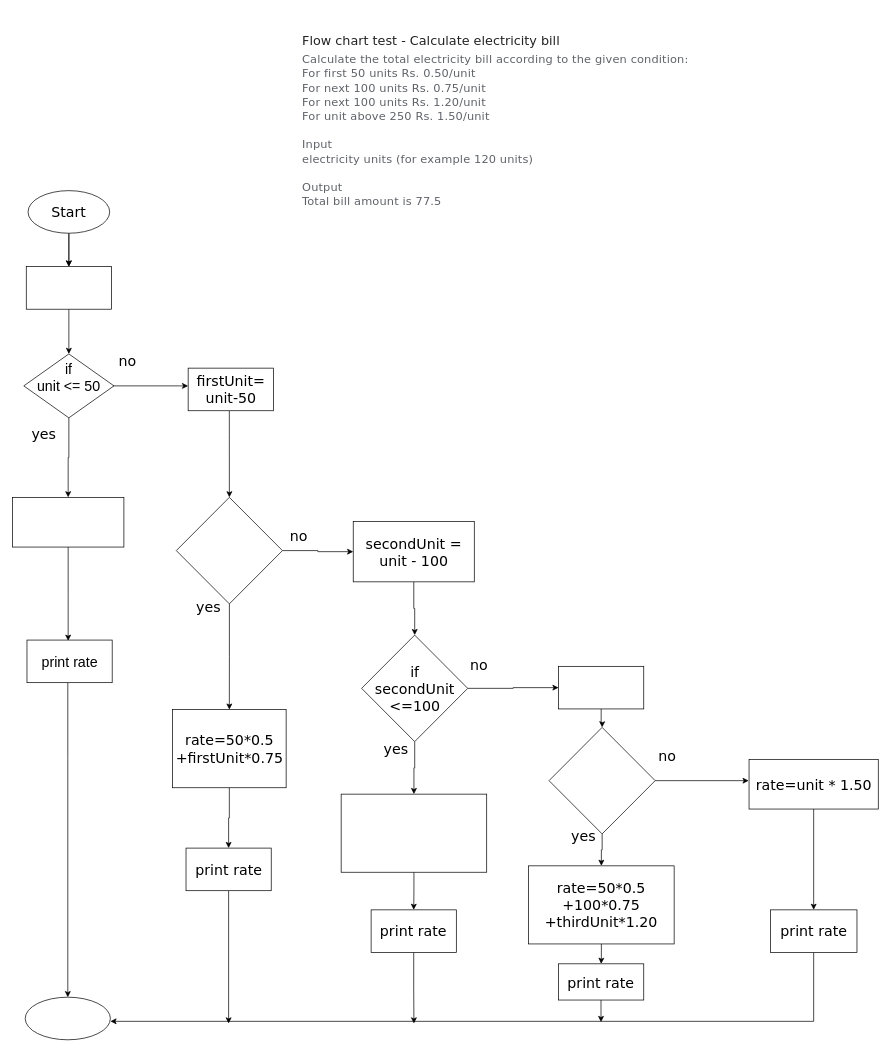
Some shapes in this 891 by 1052 pixel diagram are drawn without their labels. Here are the shapes that lost their labels. From the top down, the centre of each, then its label:
At (x=68, y=287): "input unit".
At (x=68, y=522): "rate=unit*0.50".
At (x=229, y=550): "if firstUnit <=100".
At (x=601, y=687): "thirdUnit = unit -150".
At (x=601, y=780): "if thirdUnit <=100".
At (x=413, y=832): "rate=50*0.5 +100*0.75 +secondUnit*1.20".
At (x=67, y=1018): "Stop".
